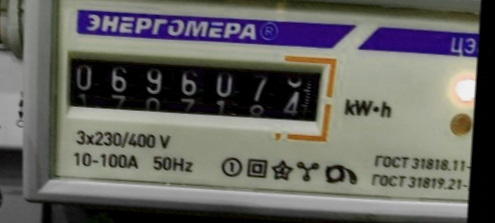0: (72, 62, 95, 93), (214, 70, 234, 100)
4: (280, 89, 300, 119)
6: (178, 67, 199, 99), (108, 64, 129, 94)
7: (248, 71, 268, 103)
9: (143, 66, 165, 96)
screen: (52, 34, 340, 144)
